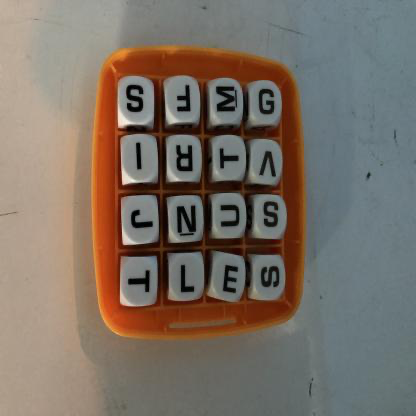e: (212, 253, 246, 300)
f: (166, 78, 201, 123)
g: (251, 82, 282, 125)
i: (121, 136, 159, 184)
j: (121, 198, 160, 247)
l: (169, 253, 205, 301)
m: (208, 80, 242, 125)
n: (168, 198, 204, 243)
r: (168, 136, 202, 183)
s: (118, 77, 155, 126), (255, 195, 288, 240), (254, 256, 287, 301)
t: (121, 257, 159, 306), (213, 137, 247, 181)
u: (214, 194, 247, 239)
v: (251, 140, 283, 186)
